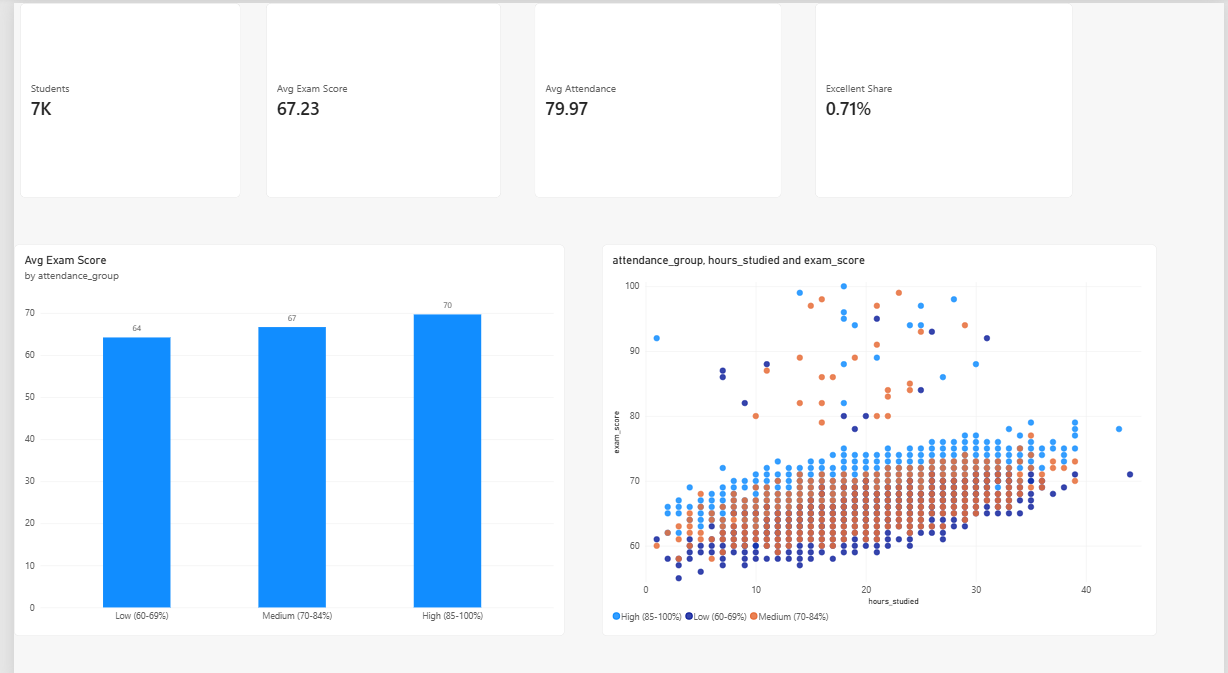

The dashboard page shown, as its layout file describes it:
{"tool":"powerbi","page":{"name":"Page 1","canvas":[1920,1080],"ordinal":0},"visuals":[{"type":"cardVisual","fields":{"Data":["student_performance_clean.Students"]},"box":[10,0,280,280],"z":0},{"type":"cardVisual","fields":{"Data":["student_performance_clean.Avg Exam Score"]},"box":[338.8,0,280,280],"z":1},{"type":"cardVisual","fields":{"Data":["student_performance_clean.Avg Attendance"]},"box":[680,0,280,280],"z":2},{"type":"cardVisual","fields":{"Data":["student_performance_clean.Excellent Share"]},"box":[1023.6,2.4,280,280],"z":3},{"type":"clusteredColumnChart","fields":{"Category":["student_performance_clean.attendance_group"],"Y":["student_performance_clean.Avg Exam Score"]},"box":[0,336.4,799.3,622.7],"z":4},{"type":"scatterChart","fields":{"Series":["student_performance_clean.attendance_group"],"X":["student_performance_clean.hours_studied"],"Y":["student_performance_clean.exam_score"]},"box":[863.7,338.8,816,620.3],"z":5}]}

Visuals, with their boxes in screenshot pixels (x1, y1, x2, y2), scaled from the page's 1920x1080 canvas onto the 1228x673 screenshot:
cardVisual - student_performance_clean.Students: {"x1": 6, "y1": 0, "x2": 185, "y2": 174}
cardVisual - student_performance_clean.Avg Exam Score: {"x1": 217, "y1": 0, "x2": 396, "y2": 174}
cardVisual - student_performance_clean.Avg Attendance: {"x1": 435, "y1": 0, "x2": 614, "y2": 174}
cardVisual - student_performance_clean.Excellent Share: {"x1": 655, "y1": 1, "x2": 834, "y2": 176}
clusteredColumnChart - student_performance_clean.attendance_group x student_performance_clean.Avg Exam Score: {"x1": 0, "y1": 210, "x2": 511, "y2": 598}
scatterChart - student_performance_clean.attendance_group x student_performance_clean.hours_studied: {"x1": 552, "y1": 211, "x2": 1074, "y2": 598}
